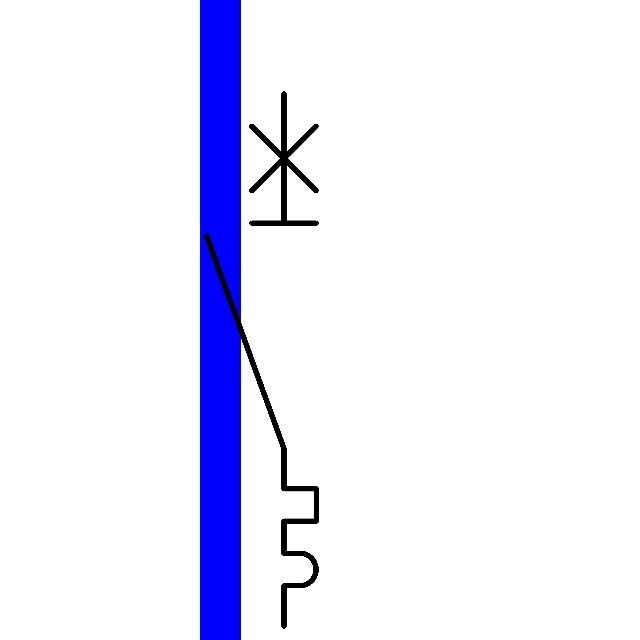interruptor_termomagnetico: (193, 80, 330, 640)
